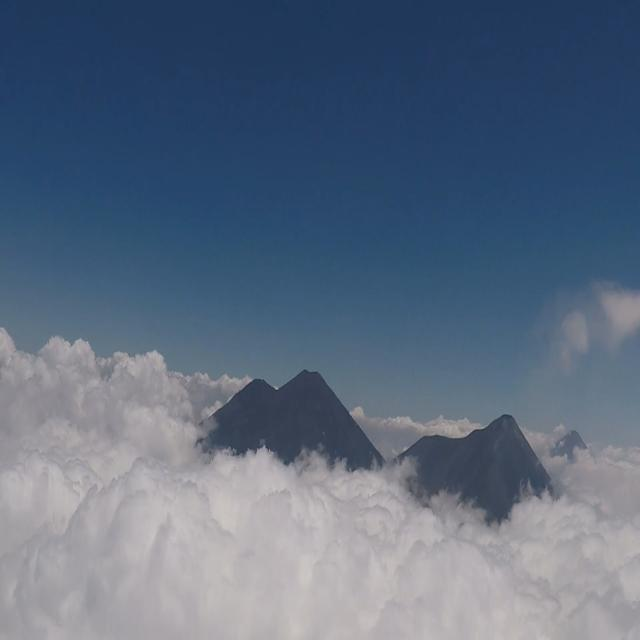Summit: (468, 409, 528, 441)
